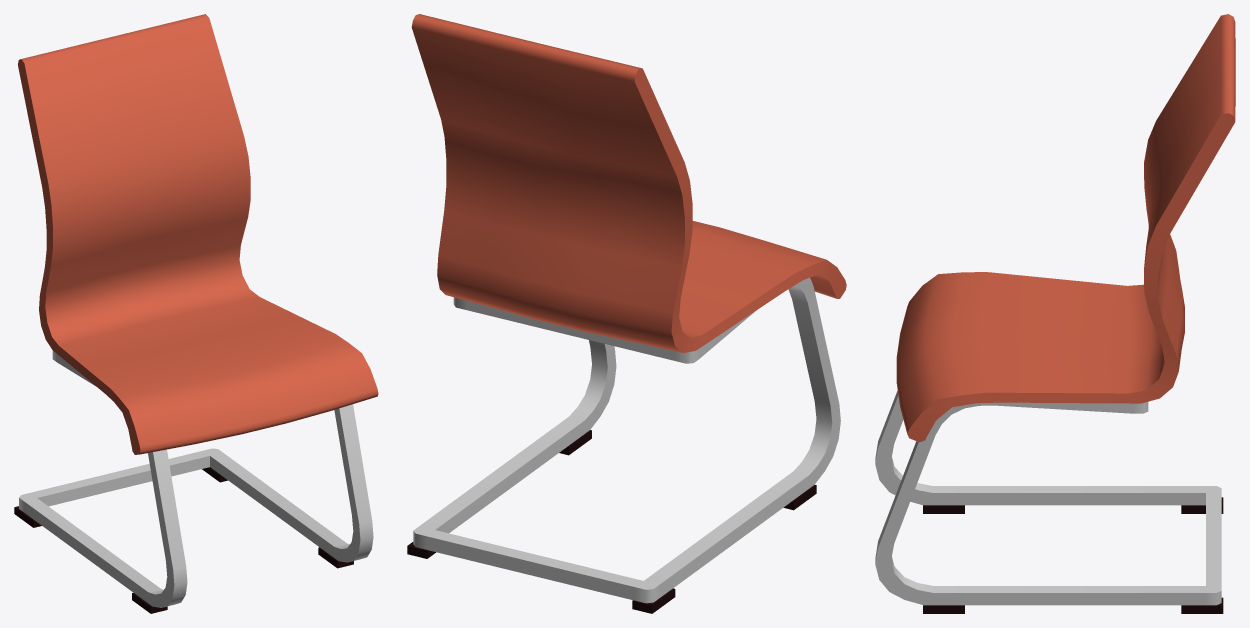
File: chair.fbx
3 views of the same model, side by side, from view 1: azimuth 30°, elevation 25°; view 2: azimuth 150°, elevation 25°; view 3: azimuth 270°, elevation 25° (orthographic). The views are drawn at different scales.
Parts seen in each view (by area): view 1: Plane.013; view 2: Plane.013; view 3: Plane.013.
Boxes of the visible parts, x1=… form: Plane.013: x1=14, y1=14, x2=378, y2=613; Plane.013: x1=407, y1=14, x2=846, y2=613; Plane.013: x1=875, y1=14, x2=1235, y2=613.
Size of the model in its own units: 290 by 525 by 346.
